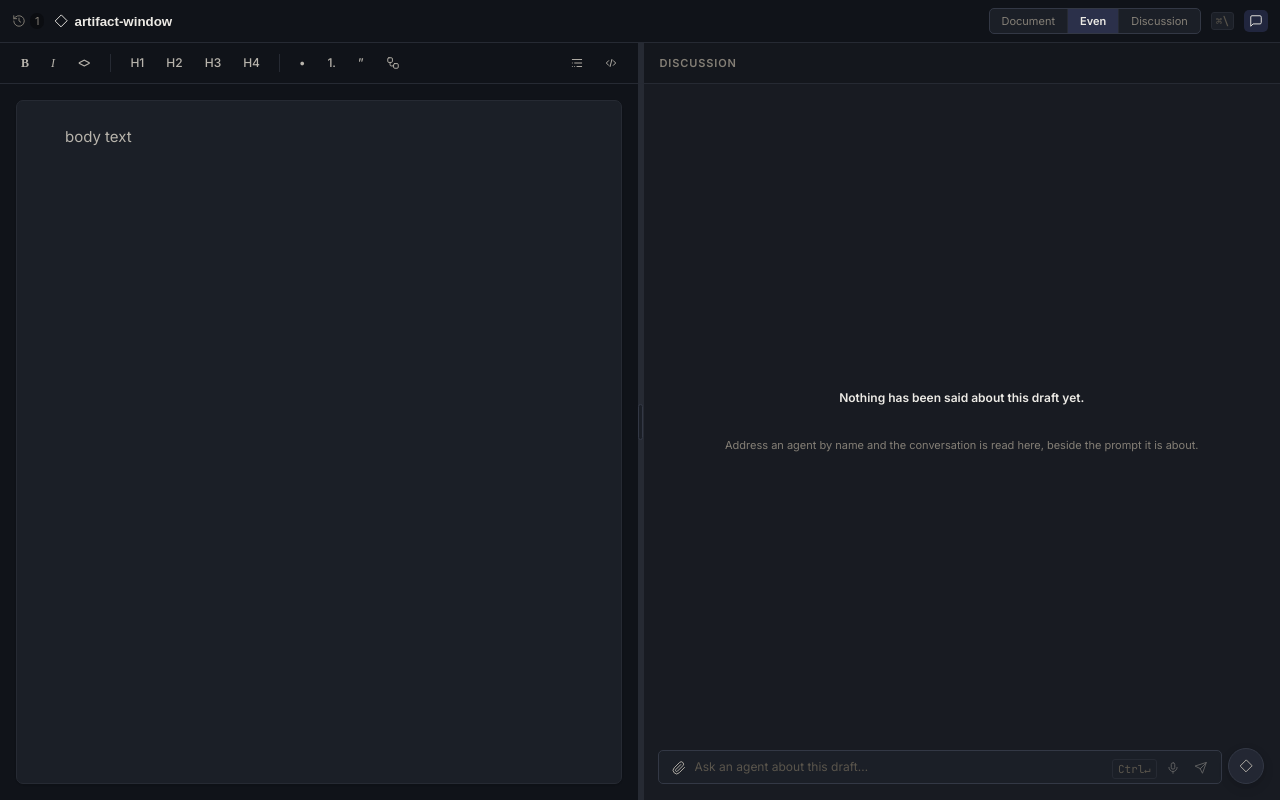
Publication chooser — opening and root publication › NAW-FR-HNVR, NAW-FR-TCQB, NAW-FR-YLKD, NAW-FR-RBTE: the chooser reads the metadata once, lists the sub-issue option first and selects it, and lists each parent
This screenshot has width=1280, height=800.
Click the button named "Draft actions" at {"x": 1246, "y": 766}, box [1228,748,1264,784]
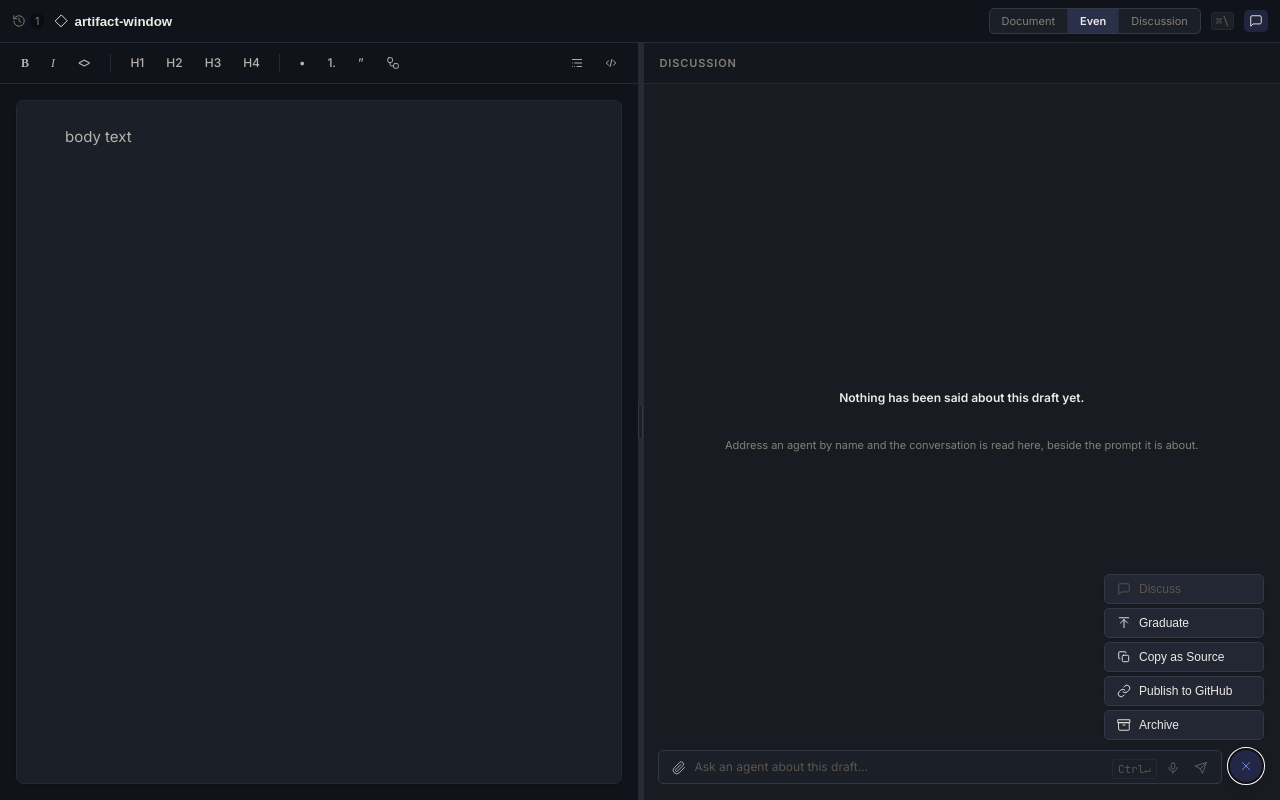
Click the menu item "Publish to GitHub" at {"x": 1184, "y": 691}, box [1104,676,1264,706]
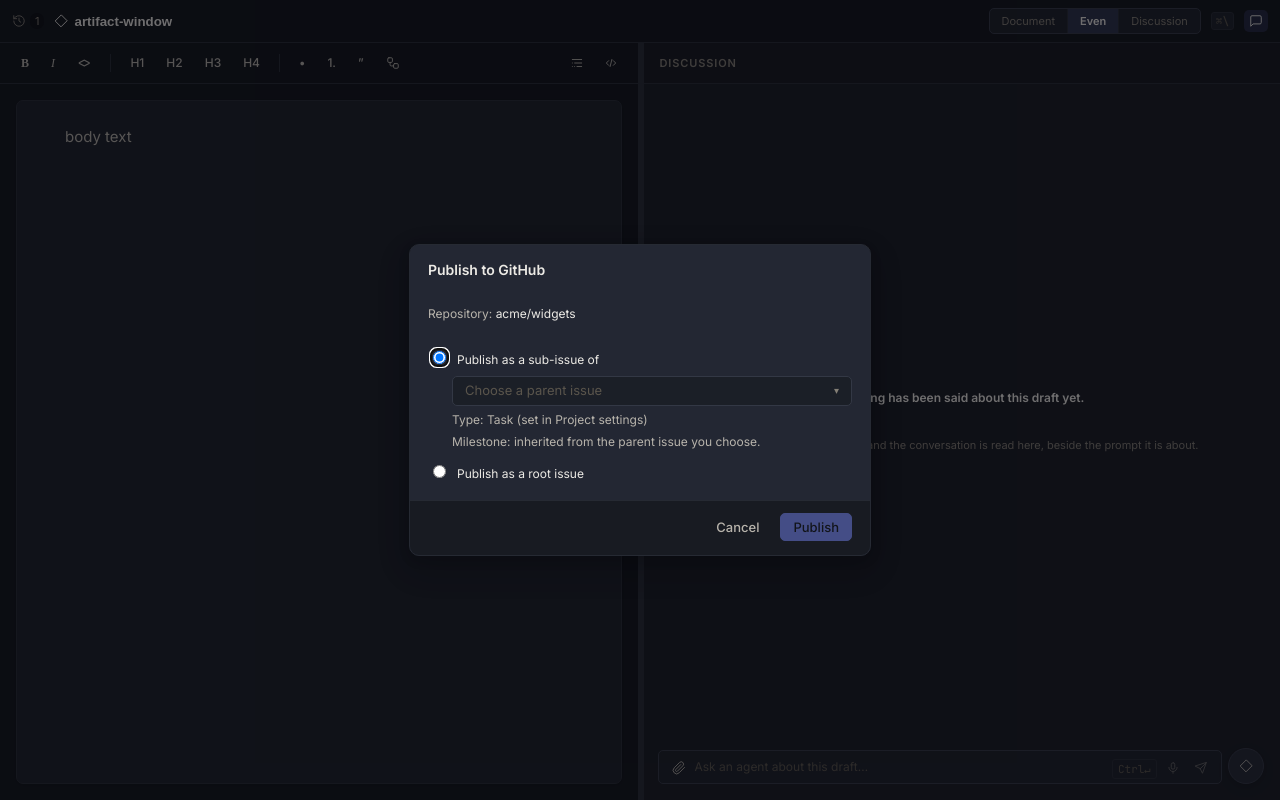
Check: the dialog named "Publish as a root issue" shows "acme/widgets", box [496,306,576,320]
Check: the radio button labelled "Publish as a sub-issue of" is checked, box [433,351,446,364]
Check: the radio button labelled "Publish as a root issue" is enabled, box [433,465,446,478]
Click the dropdown labelled "parent issue" at {"x": 534, "y": 390}, box [452,376,852,406]
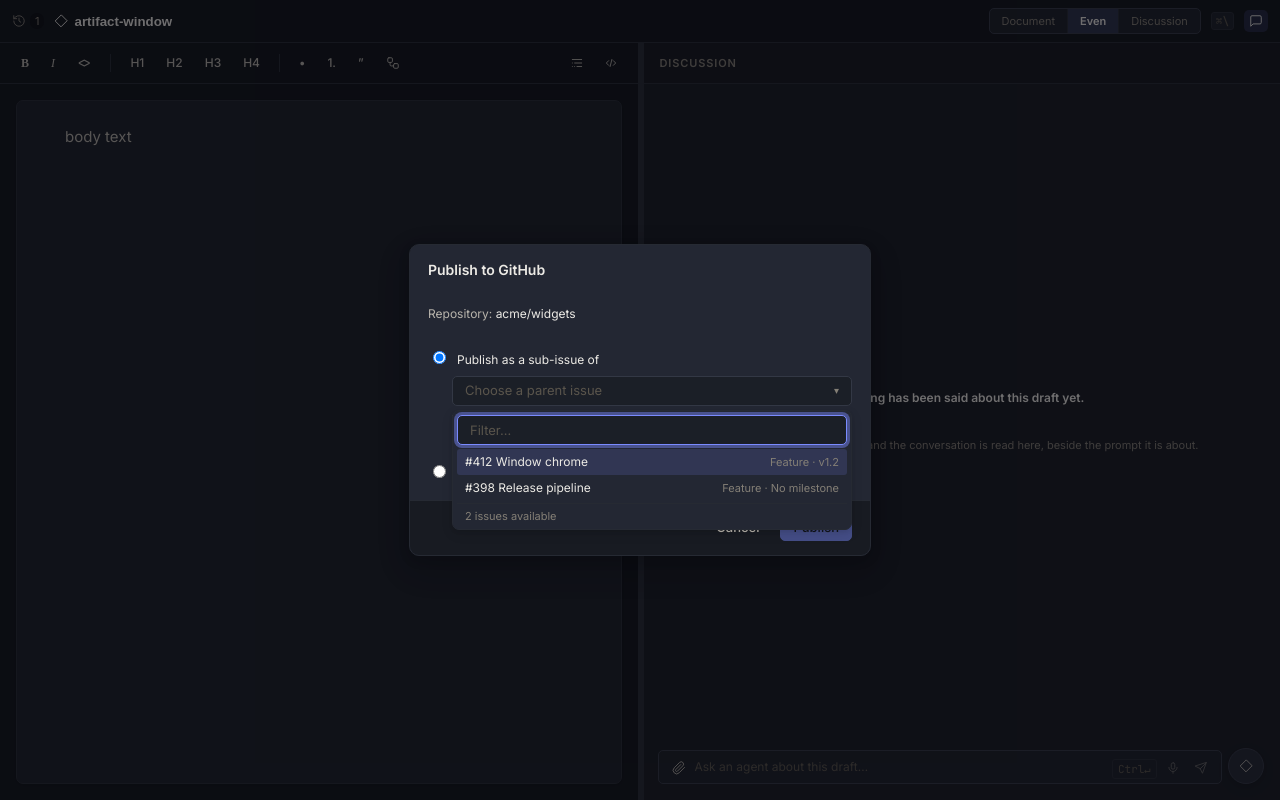
Check: the number of options is 2, box [457,449,847,475]; [465,480,839,495]
Check: the option "#412 Window chrome Feature · v1.2" is shown, box [457,449,847,475]
Check: the option "#398 Release pipeline Feature · No milestone" is shown, box [465,480,839,495]
